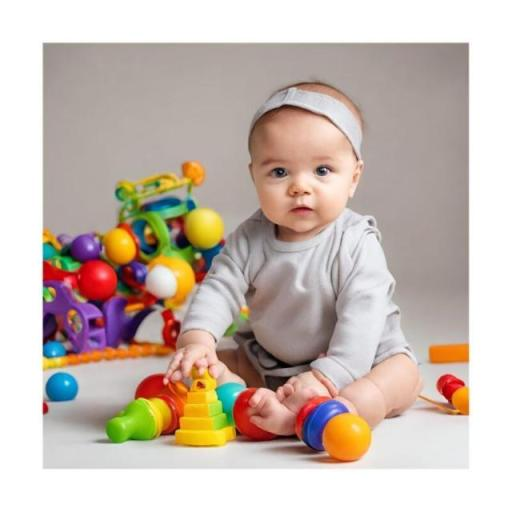baby: (164, 82, 423, 437)
